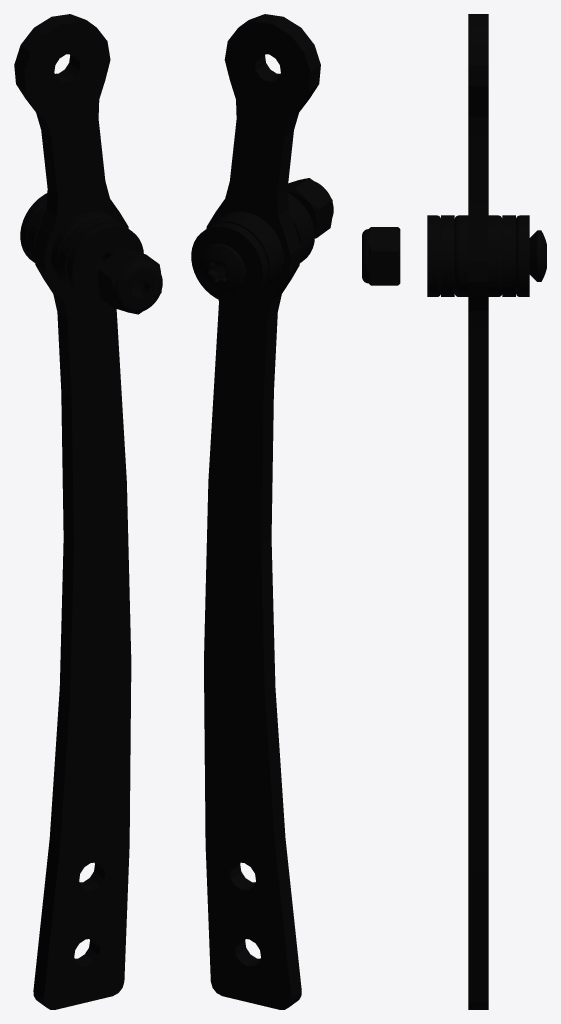
The picture shows the model from 3 angles, left to right: view 1: azimuth 30°, elevation 25°; view 2: azimuth 150°, elevation 25°; view 3: azimuth 270°, elevation 25°; orthographic projection.
Parts seen in each view (by area): view 1: lb3; view 2: lb3; view 3: lb3.
Part boxes in pixels (x1,y1,x2,y2): lb3: (14, 14, 162, 1009); lb3: (191, 14, 333, 1009); lb3: (362, 14, 546, 1009).
Bounding box in the file's own units: 0.0089 × 0.0136 × 0.0784.
Materials: 1 (1 with a texture image).
